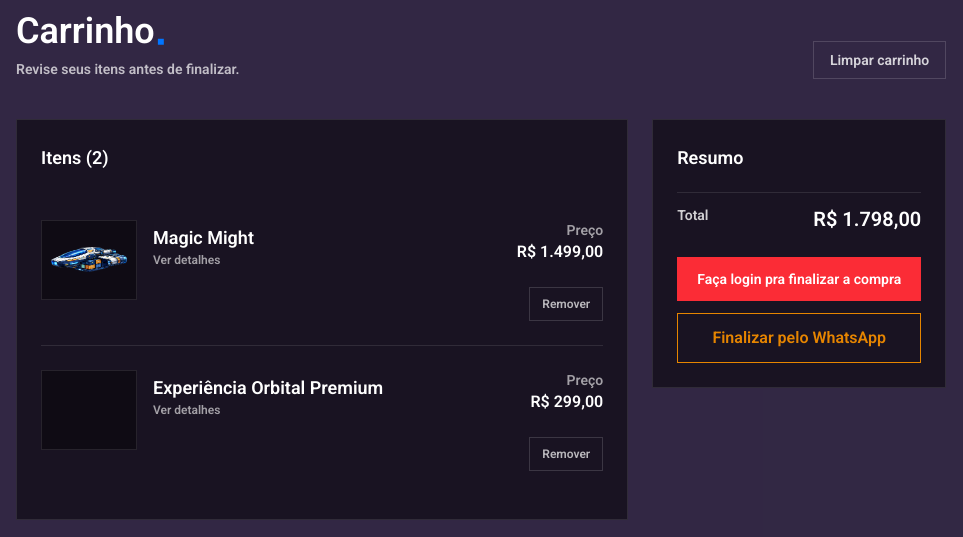
Test: CartPage (integration) › mostra 2 itens, soma os valores e ao remover atualiza o total
The width and height of the screenshot is (963, 537).
Expected: the heading "Itens (2)" is shown, [41, 146, 109, 168]
Expected: the text "Magic Might" is shown, [153, 224, 254, 252]
What coordinates should you click on to do the following:
click the button "Faça login pra finalizar a compra"
I would click on:
 (799, 278)
Its box is [677, 256, 921, 300].
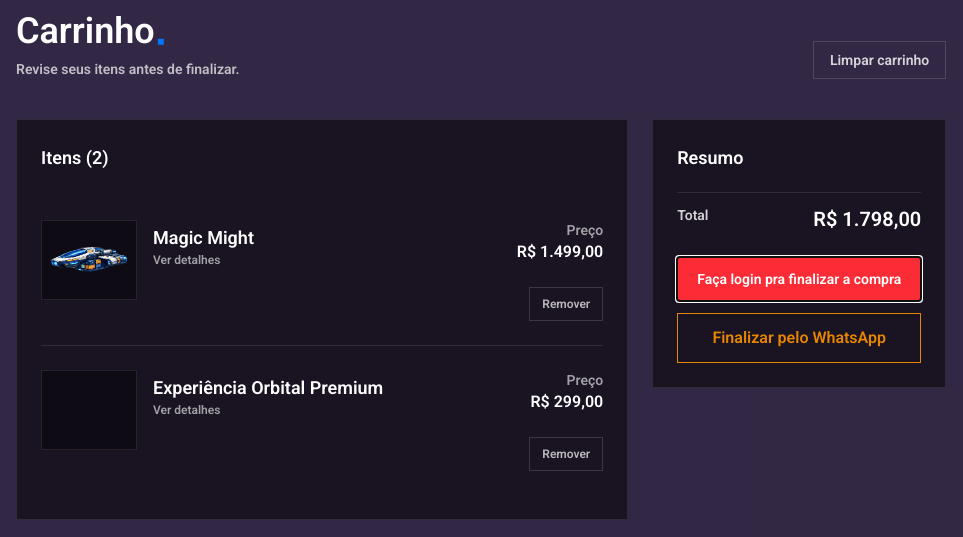
What coordinates should you click on to do the following:
click the button with test id "cart-remove-ship-ship-1"
I would click on:
 (566, 304)
Its box is [529, 286, 603, 320].
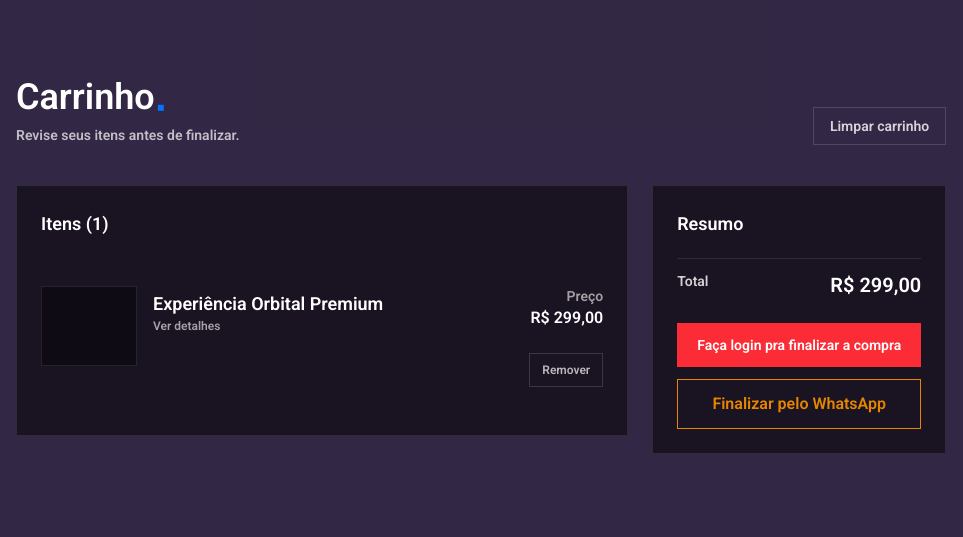
Now the heading "Itens (1)" is shown, box [41, 212, 109, 234]
Now the link "Magic Might" is gone
